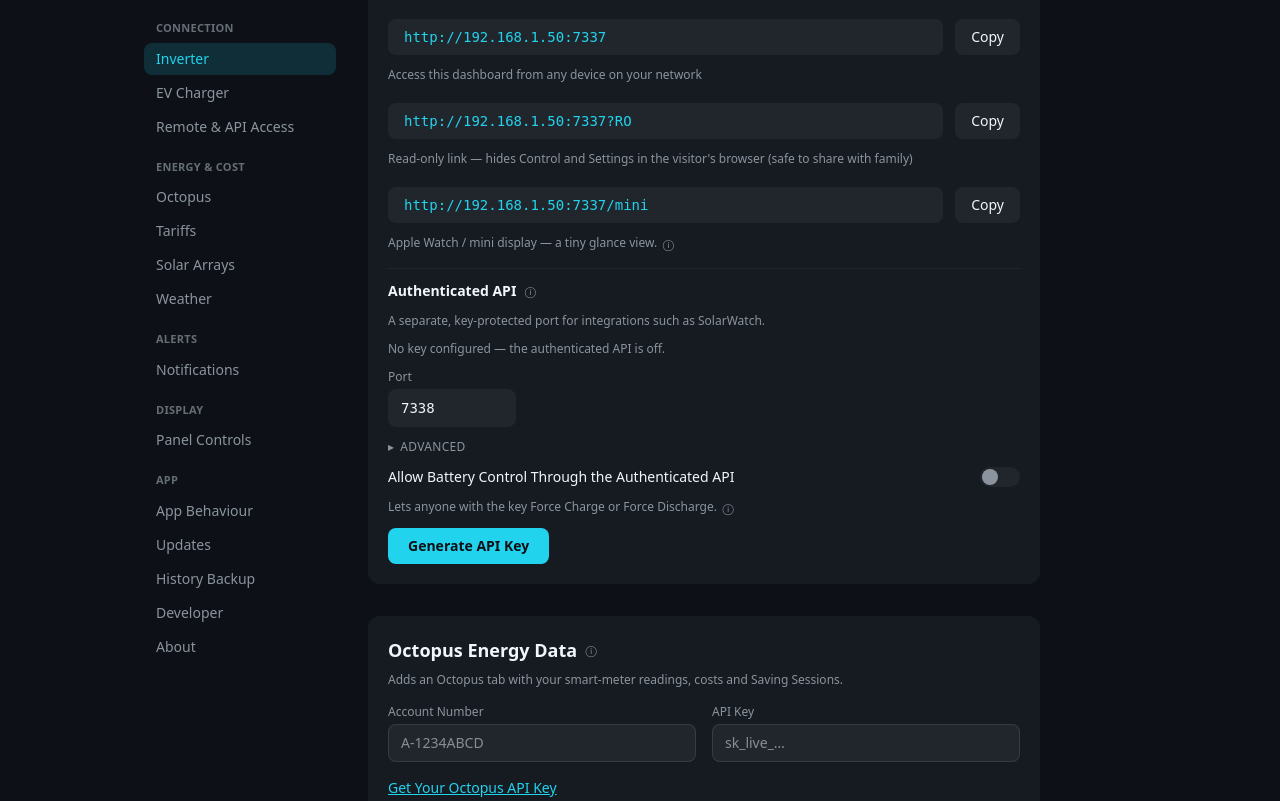
Test: <SettingsPage/> — page shell & hydration › saved settings reach their sections › shows saved app, tray and update settings
The width and height of the screenshot is (1280, 801).
(page scrolled)
Click the button "▸ Advanced" at [427, 447], box [388, 439, 466, 455]
(page scrolled)
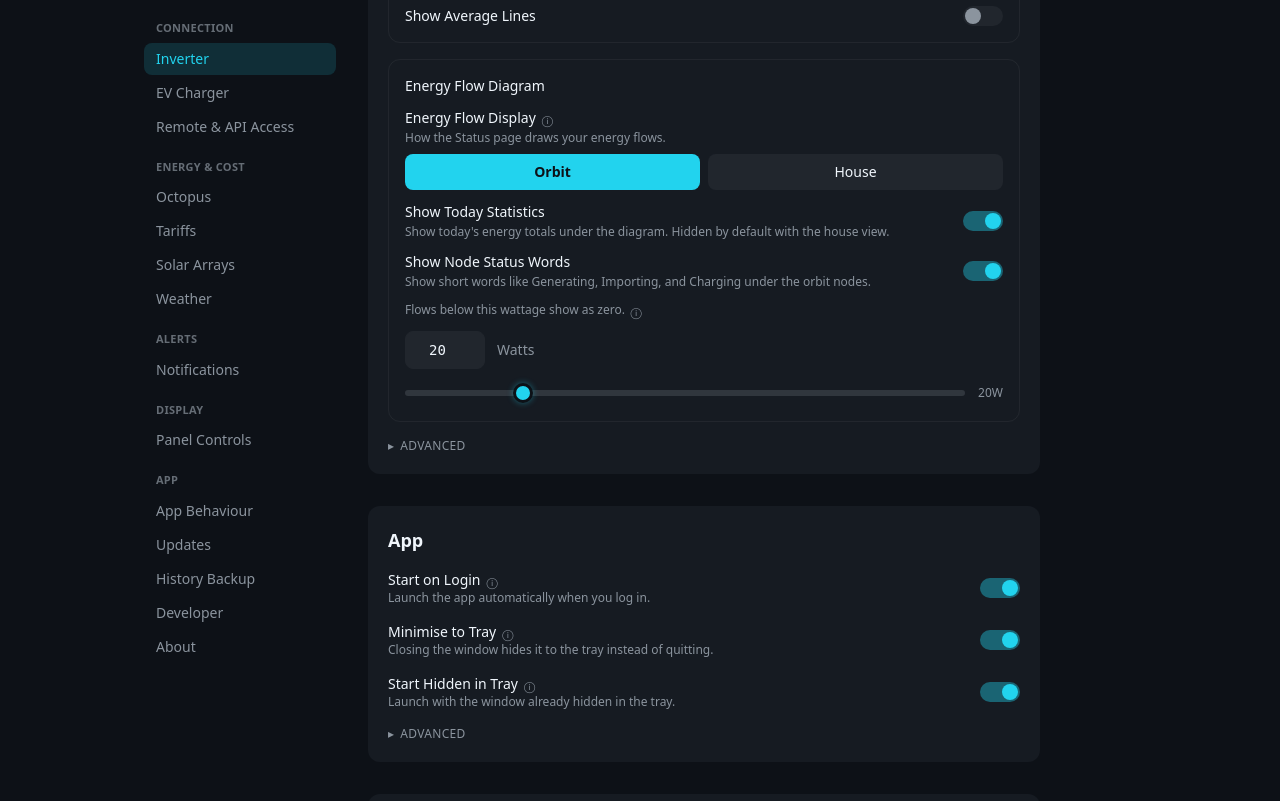
Click the button "▸ Advanced" below "Watts" at [427, 446], box [388, 438, 466, 454]
(page scrolled)
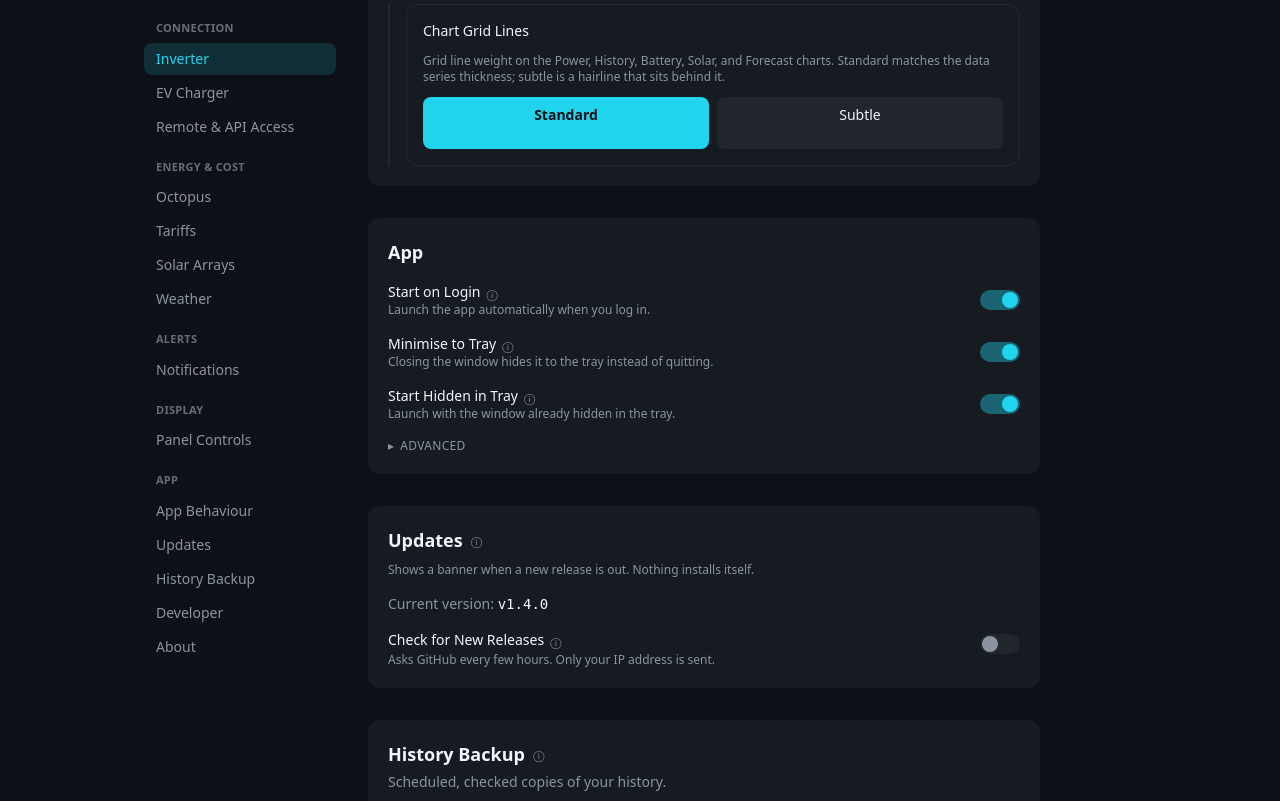
Click the button "▸ Advanced" at [427, 446], box [388, 438, 466, 454]
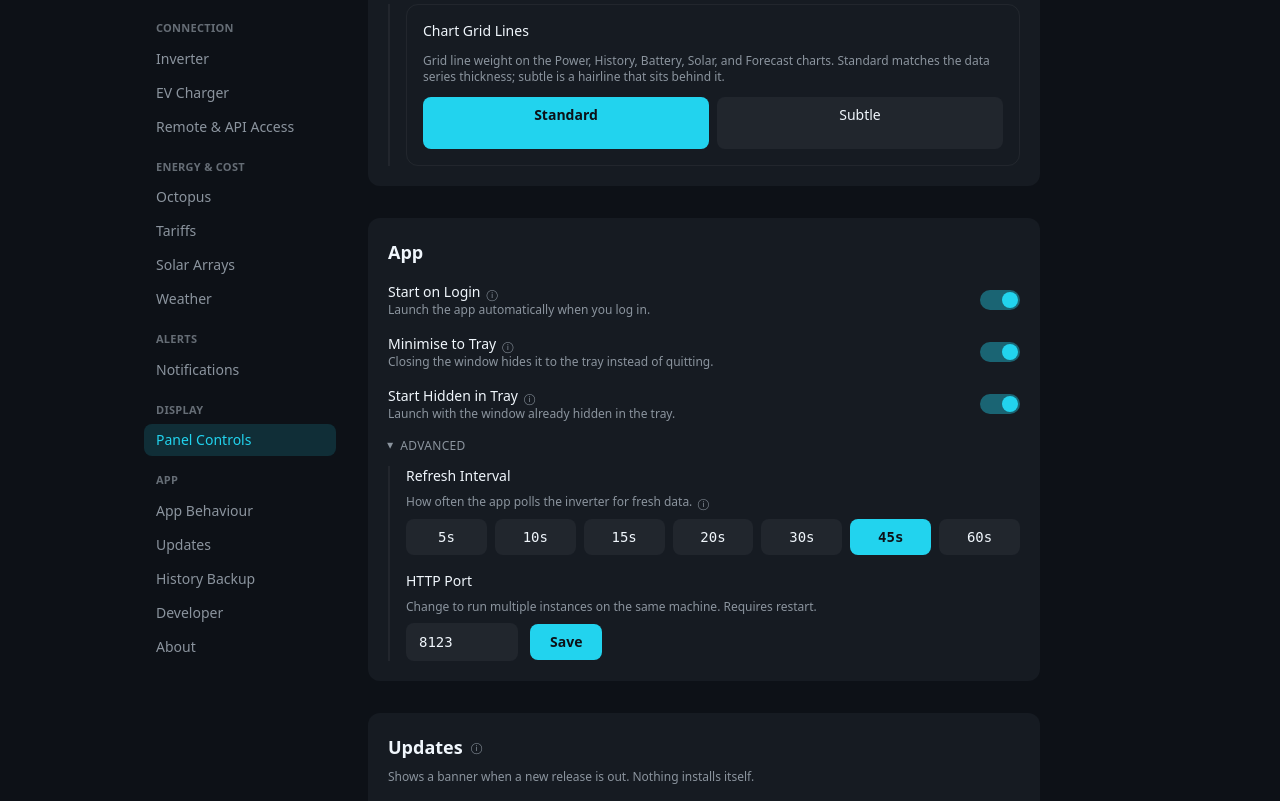
Check: the number field holds "8123", box [406, 623, 518, 661]
